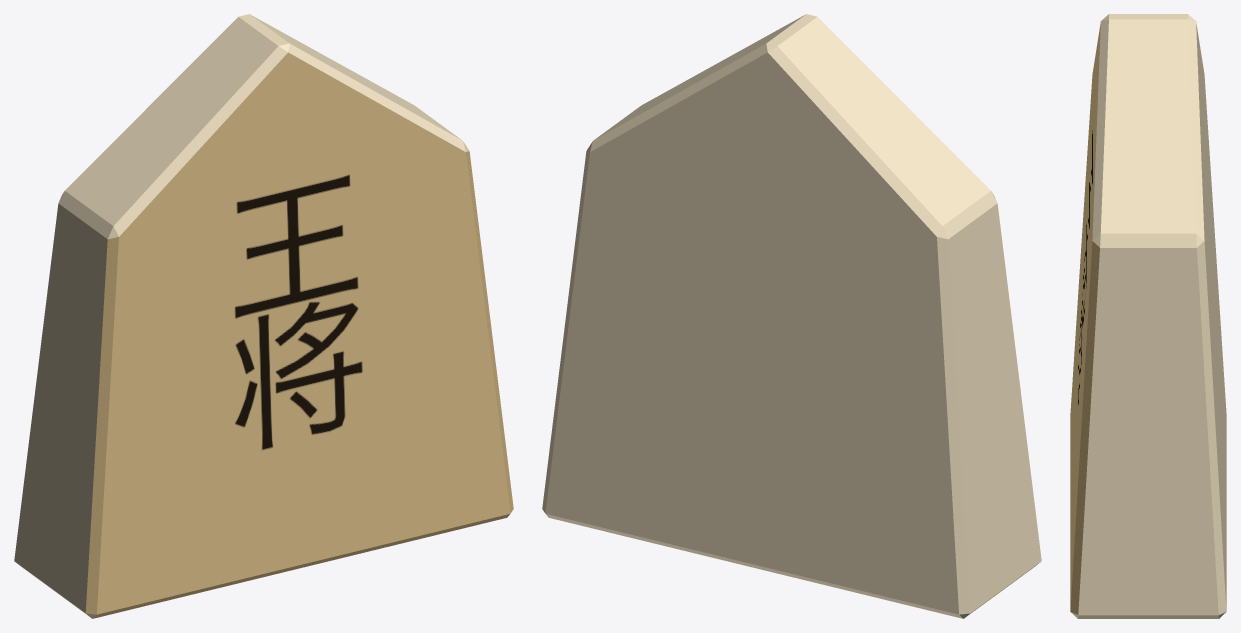
Rendered from Shogi_King.glb.
The picture shows the model from 3 angles, left to right: view 1: azimuth 30°, elevation 25°; view 2: azimuth 150°, elevation 25°; view 3: azimuth 270°, elevation 25°; orthographic projection.
Visible parts, largest first — view 1: Shogi_King; view 2: Shogi_King; view 3: Shogi_King.
Boxes of the visible parts, x1,y1,x2,y2 form: Shogi_King: (14,14,513,618); Shogi_King: (542,14,1041,618); Shogi_King: (1070,14,1226,618).
Size of the model in its own units: 0.028 by 0.032 by 0.009.
2 materials, 1 textured.
